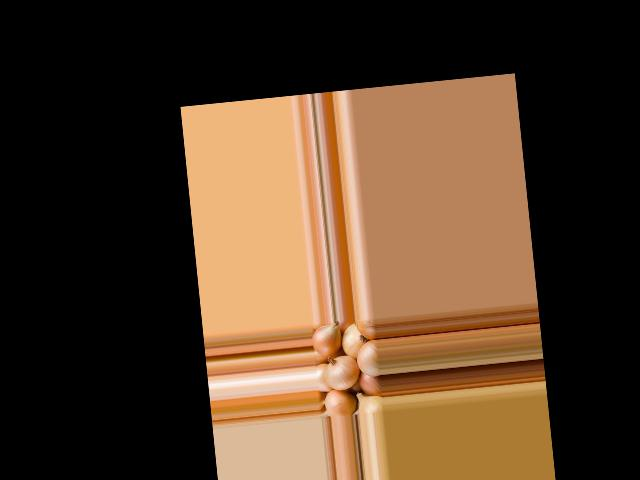onion: (315, 361, 334, 393)
